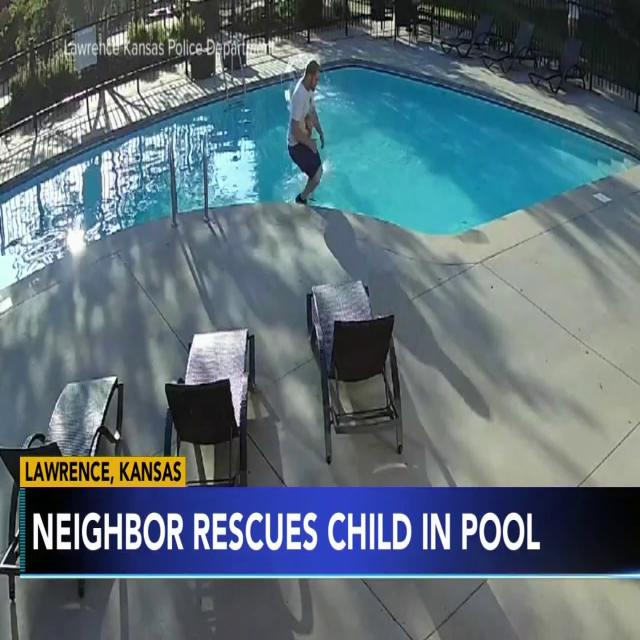adult: (287, 59, 330, 212)
child: (305, 116, 325, 159)
